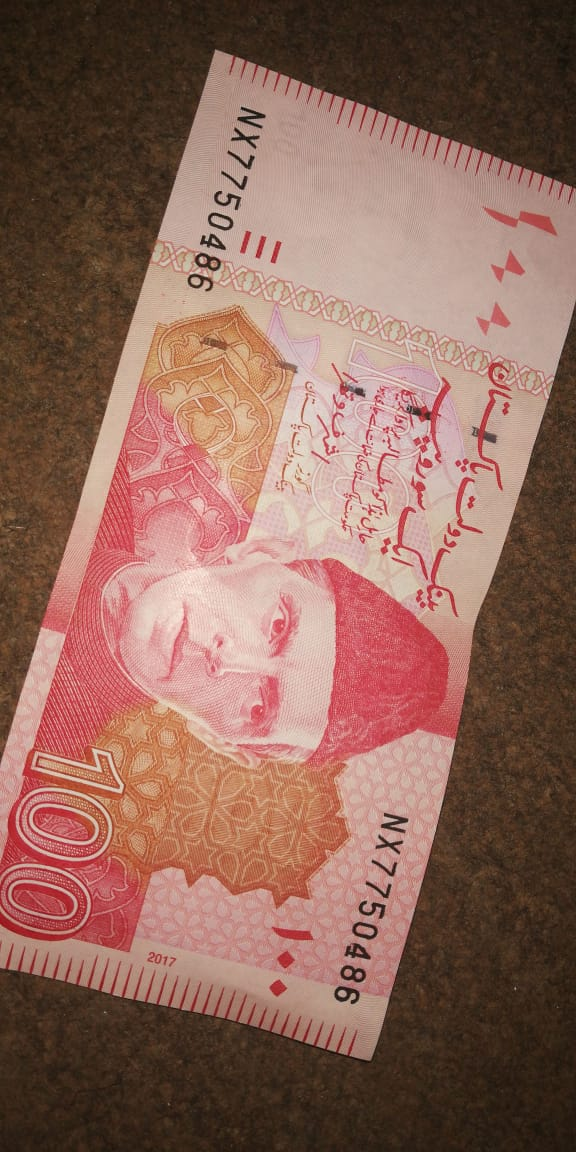100 rupee: (0, 39, 560, 1066)
